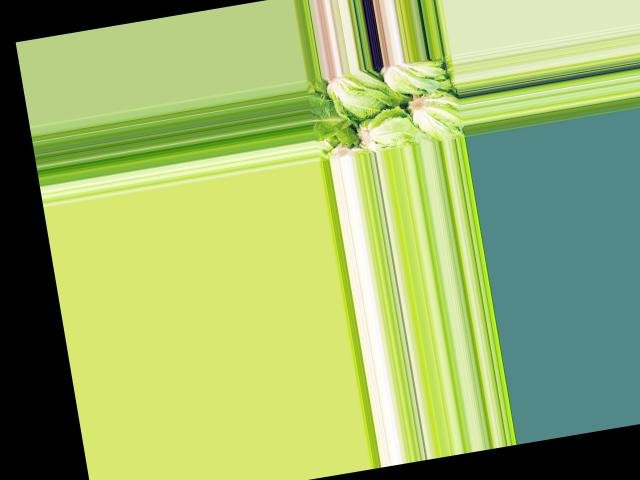lettuce: (308, 101, 349, 142)
